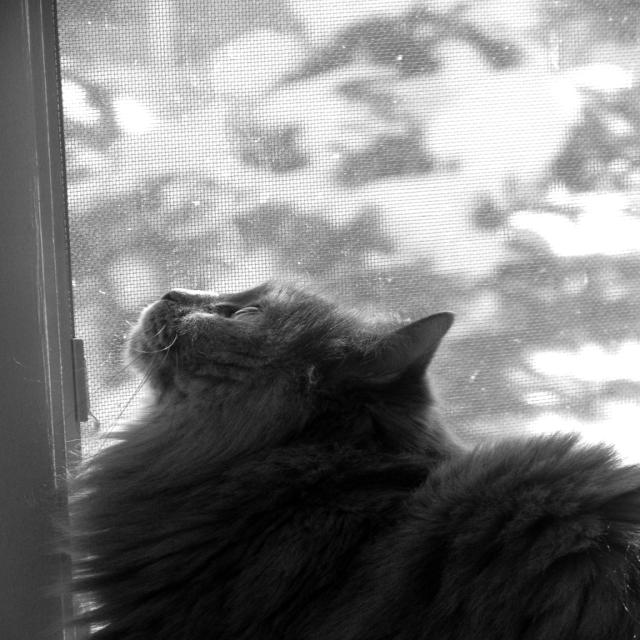Cat: (67, 277, 636, 637)
